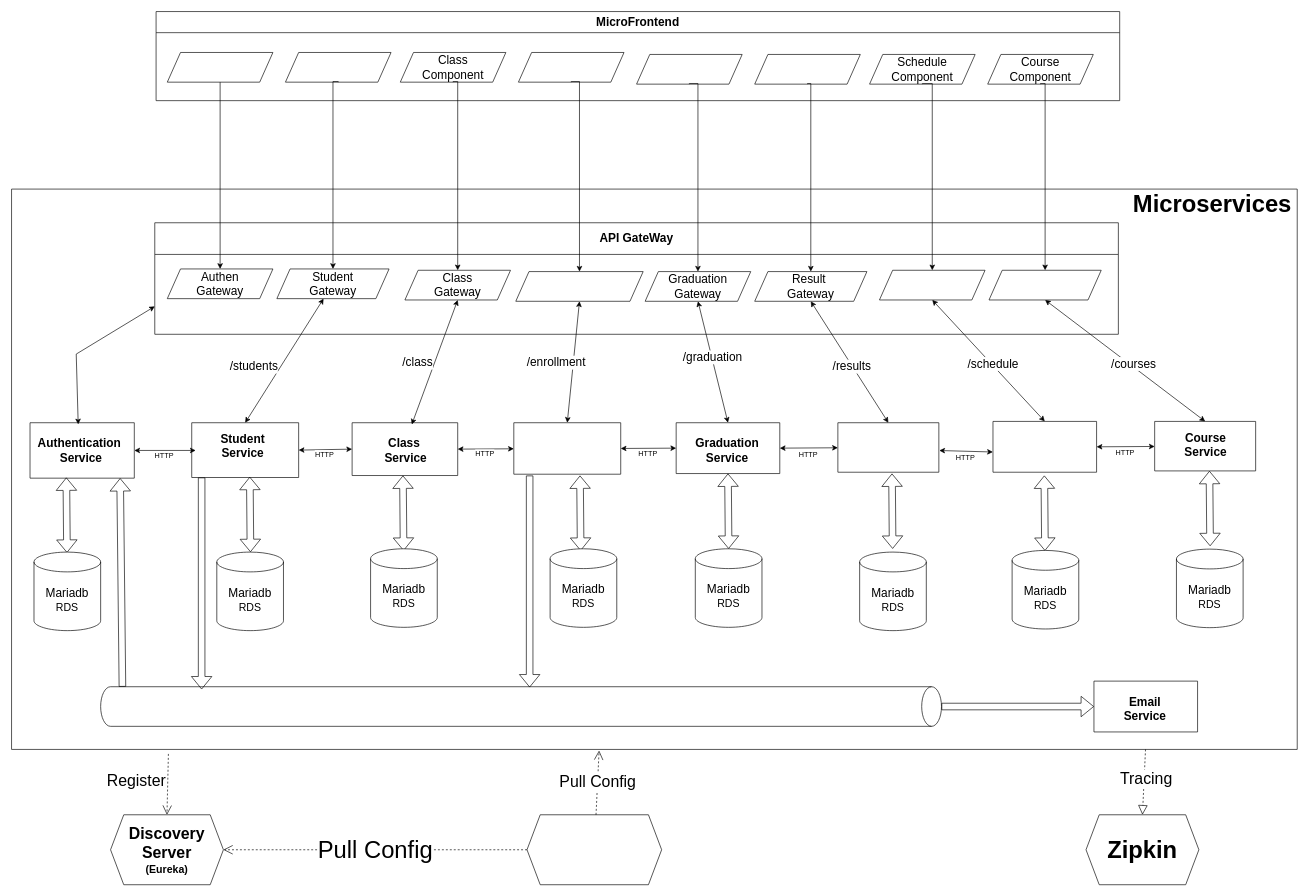
This 1309x896 diagram has some shape labels left out. The centre of each missing label's shape, as x and y in pixels:
"Configuration Server" goes at (x=594, y=849).
"Course Gateway" goes at (x=1044, y=285).
"Enrollment Component" goes at (x=571, y=67).
"Enrollment Gateway" goes at (x=579, y=286).
"Enrollment S ervice" goes at (x=567, y=448).
"Graduation Component" goes at (x=689, y=69).
"Kafka Message" goes at (x=520, y=706).
"LearningResult S ervice" goes at (x=888, y=447).
"Login Component" goes at (x=220, y=67).
"Result Component" goes at (x=807, y=69).
"Schedule Gateway" goes at (x=932, y=285).
"Schedule S ervice" goes at (x=1044, y=446).
"Student Component" goes at (x=338, y=67).
